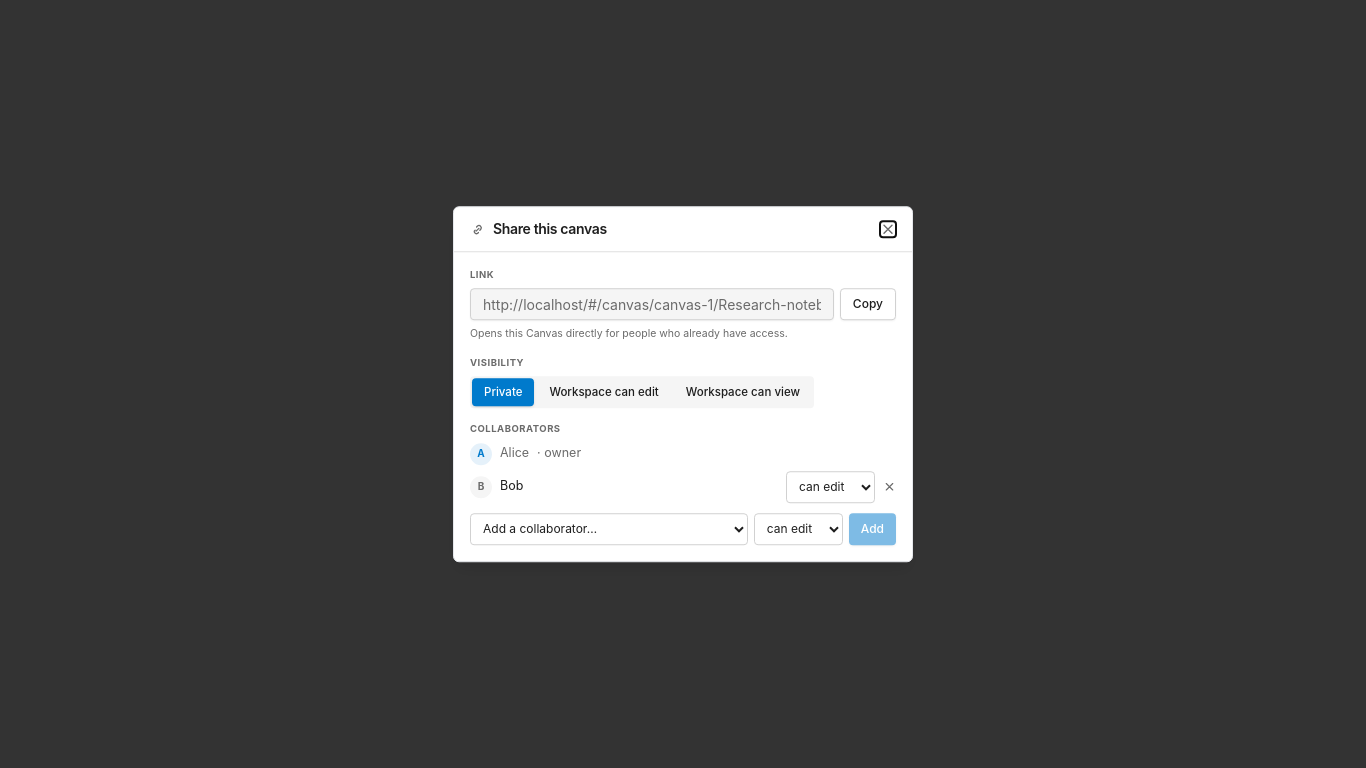
Test: ShareModal — server-authoritative sharing truth › keeps the collaborator row after an offline remove failure
The width and height of the screenshot is (1366, 768).
Expected: the text "Bob" is shown, [500,478,523,493]
What coordinates should you click on to do the following:
click the button titled "Remove"
I would click on:
 (890, 487)
Its box is [883,480,896,493].
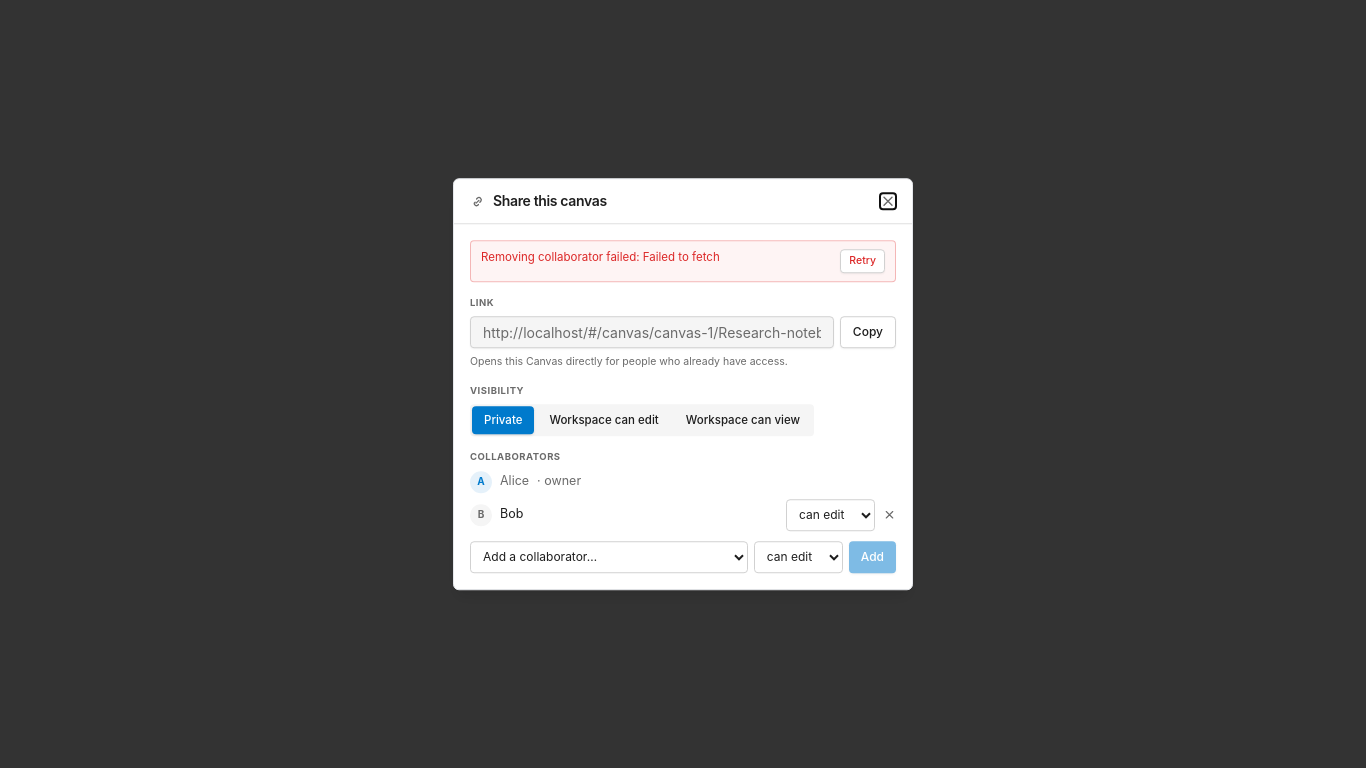
Expected: the text "Bob" is shown, [500,506,523,521]
Now the message shows "Failed to fetch", box [481,250,720,264]
